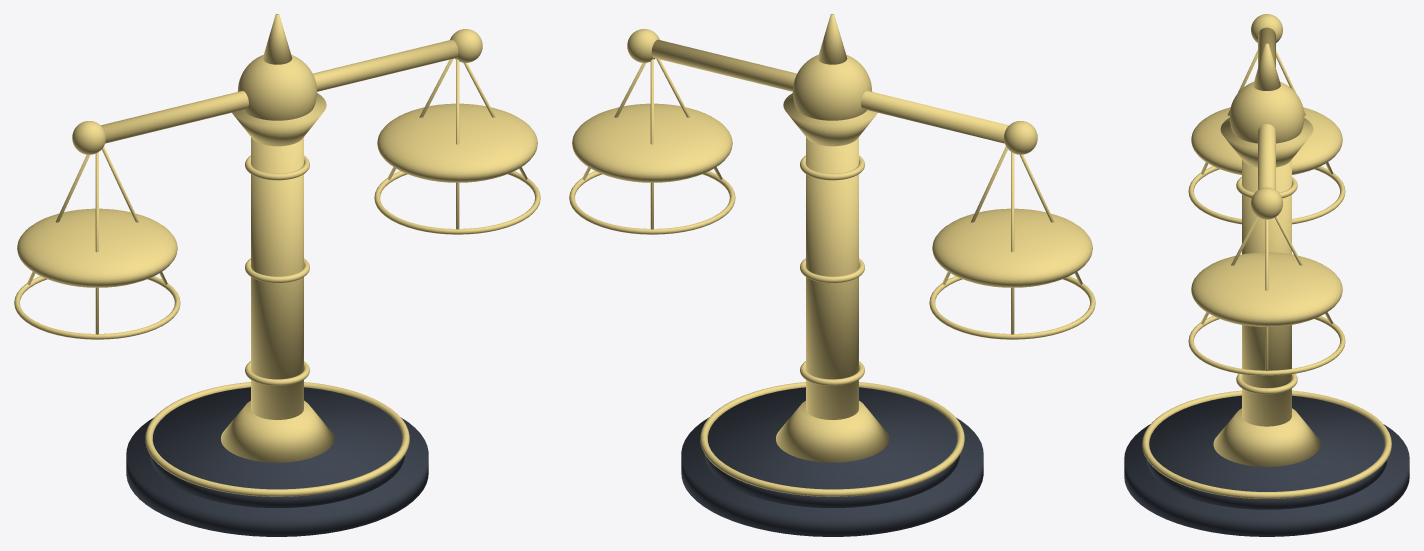
File: scales_of_justice.glb
The picture shows the model from 3 angles, left to right: view 1: azimuth 30°, elevation 25°; view 2: azimuth 150°, elevation 25°; view 3: azimuth 270°, elevation 25°; orthographic projection. The views are drawn at different scales.
Visible parts, largest first — view 1: Plinth_Tier2, MainColumn, Plinth_Tier1, RightScale_Dish, LeftScale_Dish, Crossbeam, Cone, Torus, Sphere, Cone.001, Torus.005, Torus.004 (+3 smaller); view 2: Plinth_Tier2, MainColumn, Plinth_Tier1, RightScale_Dish, LeftScale_Dish, Crossbeam, Cone, Torus, Sphere, Cone.001, Torus.005, Torus.004 (+3 smaller); view 3: Plinth_Tier2, Plinth_Tier1, RightScale_Dish, MainColumn, Cone, LeftScale_Dish, Torus, Sphere, Crossbeam, Cone.001, Torus.005, Torus.004 (+5 smaller).
Boxes of the visible parts, <box> form: Plinth_Tier2: <box>150,387,404,508</box>; MainColumn: <box>251,137,303,419</box>; Plinth_Tier1: <box>126,417,428,536</box>; RightScale_Dish: <box>377,103,537,182</box>; LeftScale_Dish: <box>17,208,177,287</box>; Crossbeam: <box>101,39,458,143</box>; Cone: <box>221,400,333,462</box>; Torus: <box>145,382,409,496</box>; Sphere: <box>237,55,317,120</box>; Cone.001: <box>232,93,326,146</box>; Torus.005: <box>374,171,540,234</box>; Torus.004: <box>14,276,180,339</box>; Plinth_Tier2: <box>705,387,959,508</box>; MainColumn: <box>806,137,858,419</box>; Plinth_Tier1: <box>681,417,983,536</box>; RightScale_Dish: <box>572,103,732,182</box>; LeftScale_Dish: <box>932,208,1092,287</box>; Crossbeam: <box>651,39,1008,143</box>; Cone: <box>776,400,888,462</box>; Torus: <box>700,382,964,496</box>; Sphere: <box>792,55,872,120</box>; Cone.001: <box>783,93,877,146</box>; Torus.005: <box>569,171,735,234</box>; Torus.004: <box>929,276,1095,339</box>; Plinth_Tier2: <box>1146,395,1387,509</box>; Plinth_Tier1: <box>1124,424,1409,536</box>; RightScale_Dish: <box>1191,252,1342,326</box>; MainColumn: <box>1242,159,1291,426</box>; Cone: <box>1213,408,1320,466</box>; LeftScale_Dish: <box>1191,107,1342,174</box>; Torus: <box>1142,390,1391,498</box>; Sphere: <box>1229,82,1304,143</box>; Crossbeam: <box>1258,27,1275,189</box>; Cone.001: <box>1220,118,1313,167</box>; Torus.005: <box>1188,316,1345,375</box>; Torus.004: <box>1188,166,1345,224</box>.
Size of the model in its own units: 6.16 by 5.35 by 3.2.
